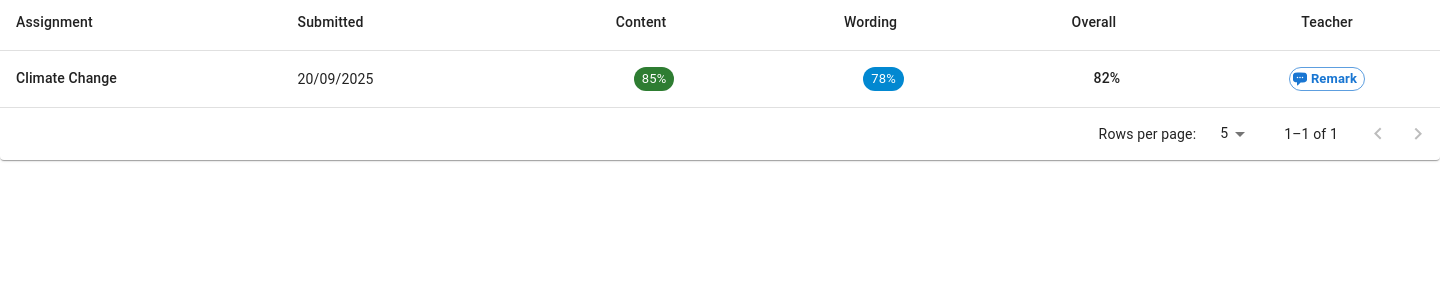
Test case: PreviousAssignmentTable › marks a row that has a teacher remark and expands it on demand
The image size is (1452, 286).
Expected: the text "say more about the consequences" is not shown
Click the button "Remark" at (1327, 79), box [1289, 67, 1365, 91]
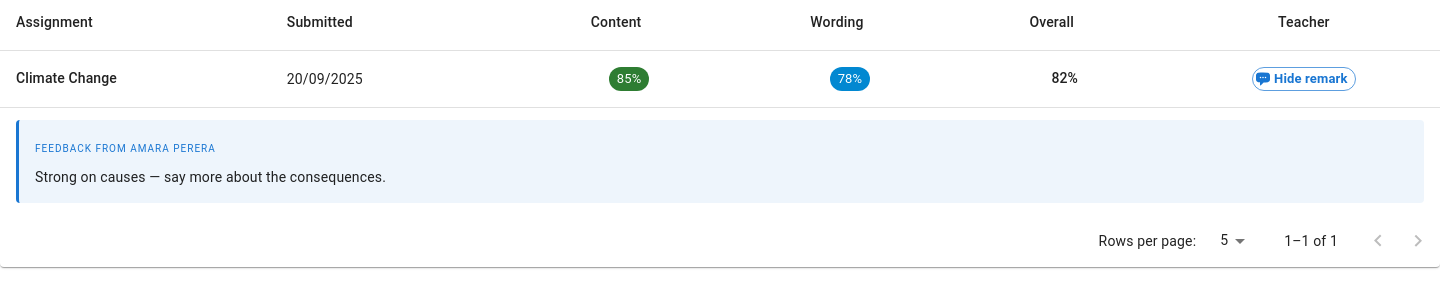
Now the text "Strong on causes — say more about the consequences." is shown, box [35, 169, 386, 185]
Now the text "Feedback from Amara Perera" is shown, box [35, 143, 216, 154]
